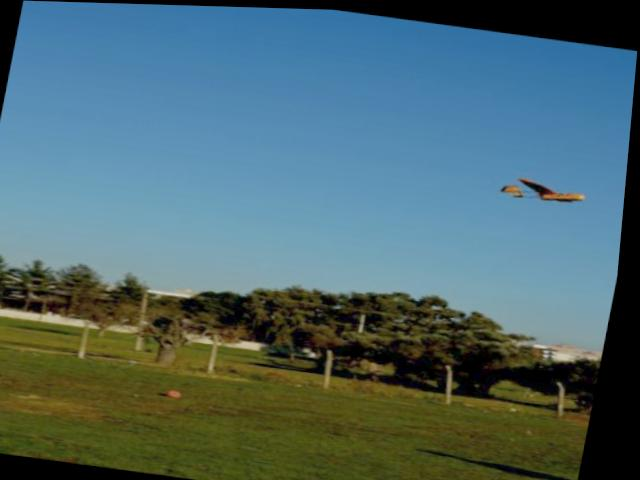iha: (499, 168, 600, 209)
